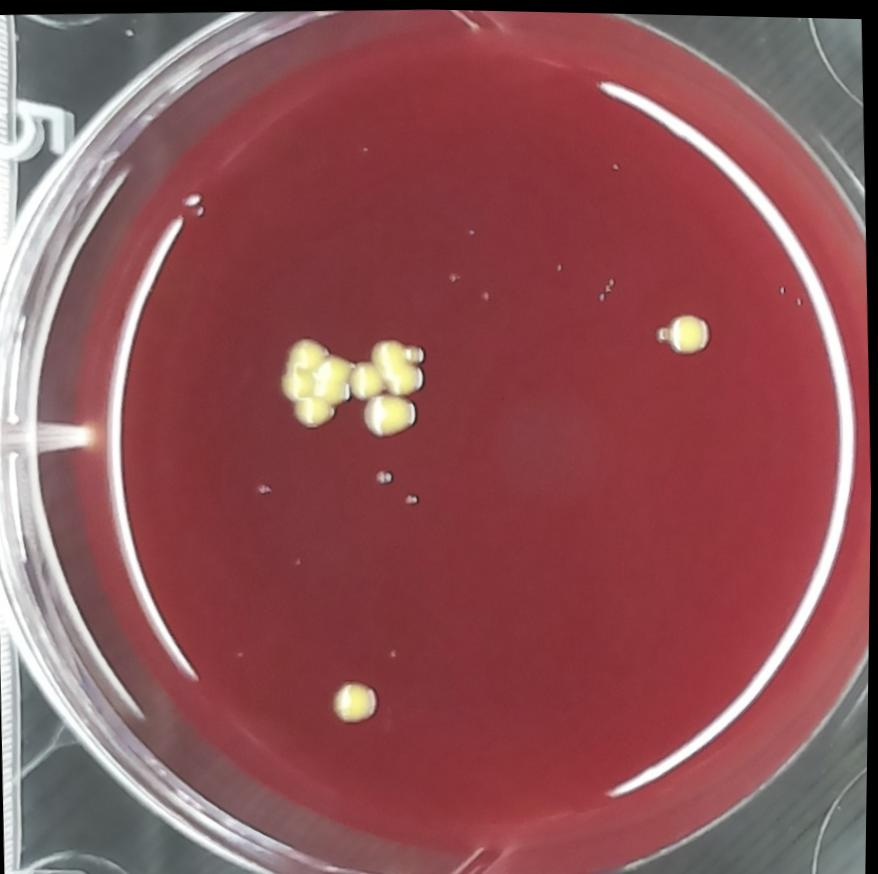mluteus: (275, 327, 354, 432), (366, 329, 433, 395), (652, 301, 725, 356), (323, 669, 389, 729), (362, 389, 422, 441), (348, 359, 386, 400)
